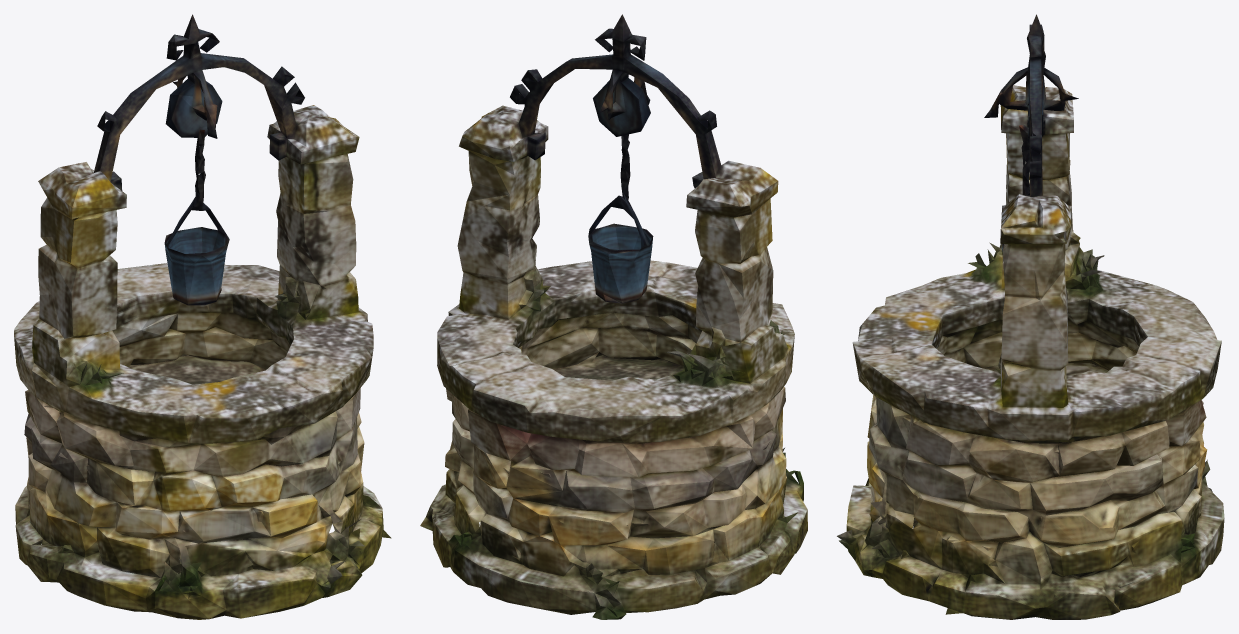
File: it_well.glb
3 renders of one model, left to right at view 1: azimuth 30°, elevation 25°; view 2: azimuth 150°, elevation 25°; view 3: azimuth 270°, elevation 25°, orthographic.
Visible parts, largest first — view 1: geometry_0; view 2: geometry_0; view 3: geometry_0.
Part boxes in pixels (<box>): geometry_0: <box>14,14,391,619</box>; geometry_0: <box>420,14,807,619</box>; geometry_0: <box>837,14,1224,619</box>.
Bounding box in the file's own units: 0.6459 × 1 × 0.6657.
Materials: 1 (1 with a texture image).
